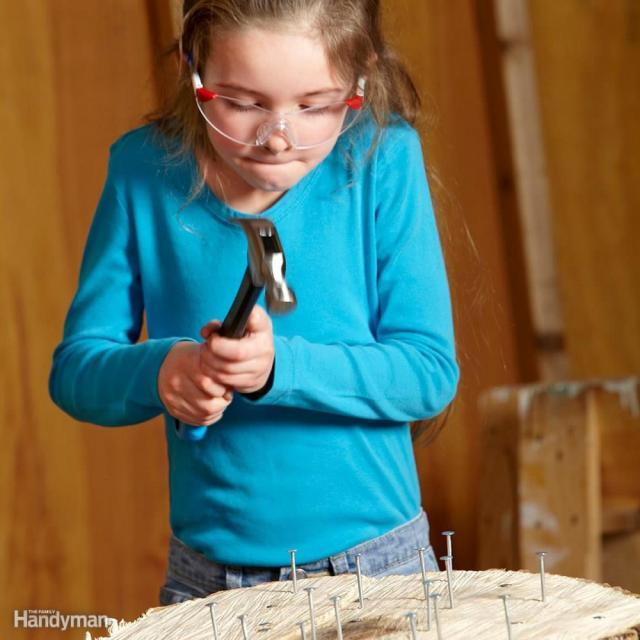hammer: (150, 187, 300, 454)
